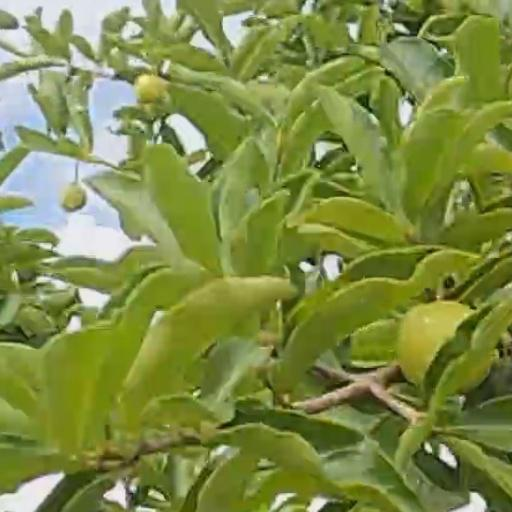acerola: (401, 300, 486, 386)
